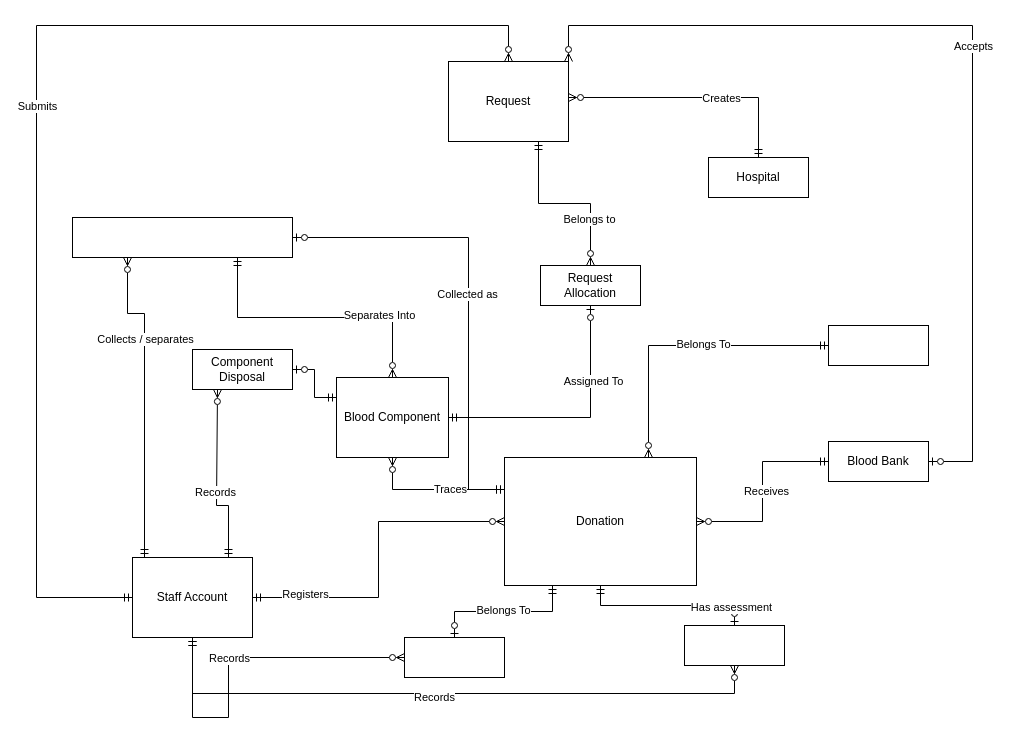
The diagram is 1010 pixels wide and 744 high, and some of its shapes have lost their labels. The centre of each missing label's shape, as x and y in pixels:
Assessment Result: point (734, 645)
Blood Unit: point (182, 237)
Donor Profile: point (878, 345)
Lab Test Result: point (454, 657)
